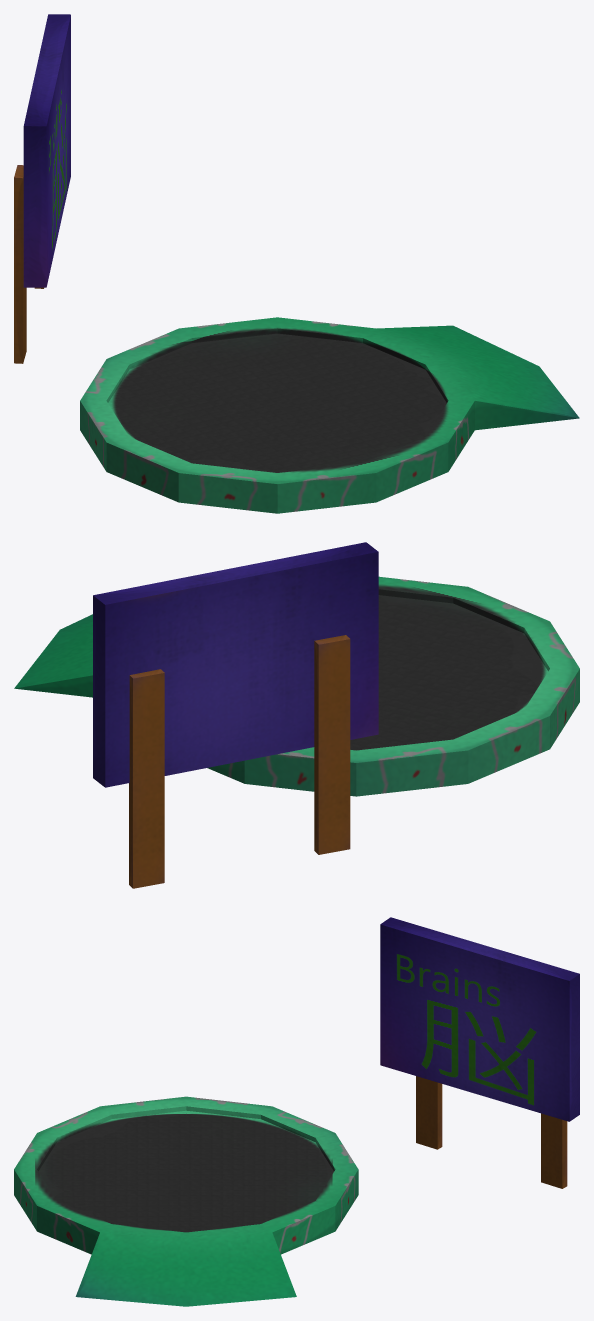
The model's file is Brains.fbx.
3 views of the same model, one above another, from view 1: azimuth 30°, elevation 25°; view 2: azimuth 150°, elevation 25°; view 3: azimuth 270°, elevation 25° (orthographic). The views are drawn at different scales.
Visible parts, largest first — view 1: polySurface5; view 2: polySurface5; view 3: polySurface5.
Part boxes in pixels (bbox=[...]): polySurface5: bbox=[14, 14, 579, 513]; polySurface5: bbox=[14, 542, 579, 888]; polySurface5: bbox=[14, 917, 579, 1306].
Bounding box in the file's own units: 6.93 × 3.85 × 8.99.
Materials: 1 (1 with a texture image).
